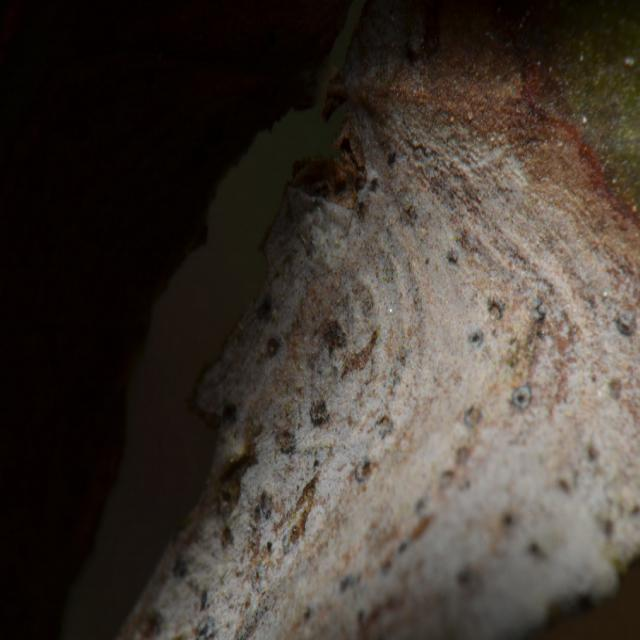Tea cloud leaf blight: (194, 89, 612, 604)
